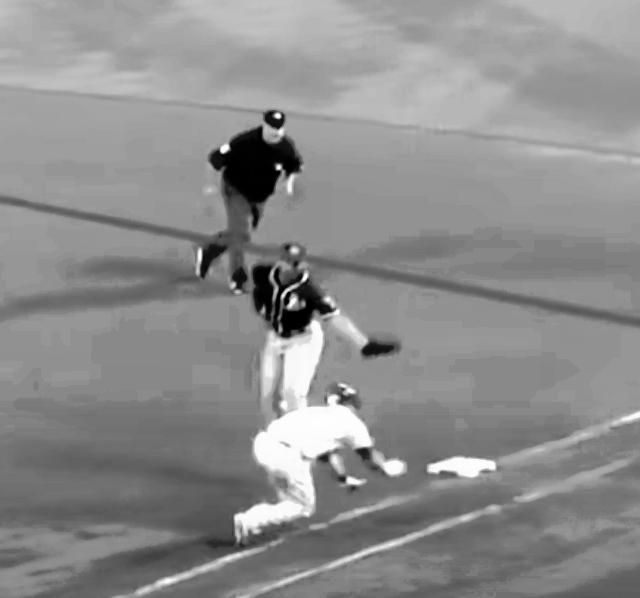jatuh: (224, 378, 413, 557)
